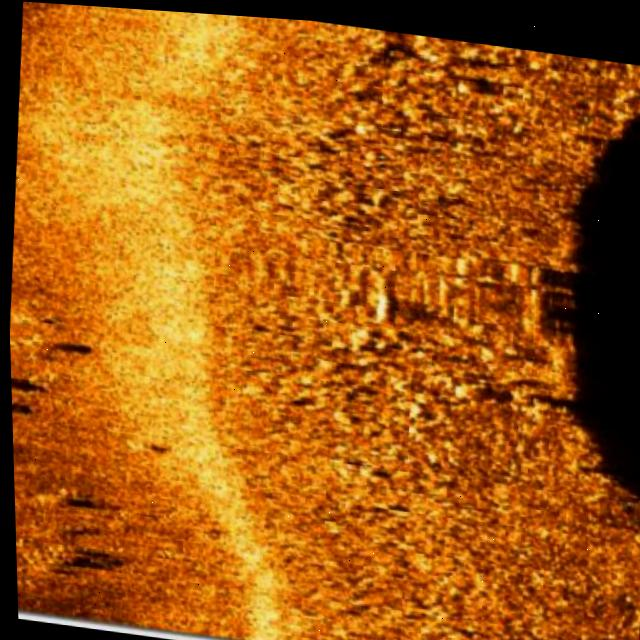bedrock group: (204, 11, 640, 640)
